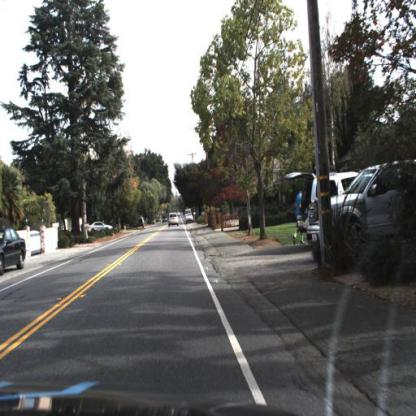car: (293, 164, 356, 239), (2, 227, 28, 276), (87, 216, 115, 235), (168, 211, 182, 231), (184, 211, 194, 224)
pedestrian: (295, 187, 306, 249)
